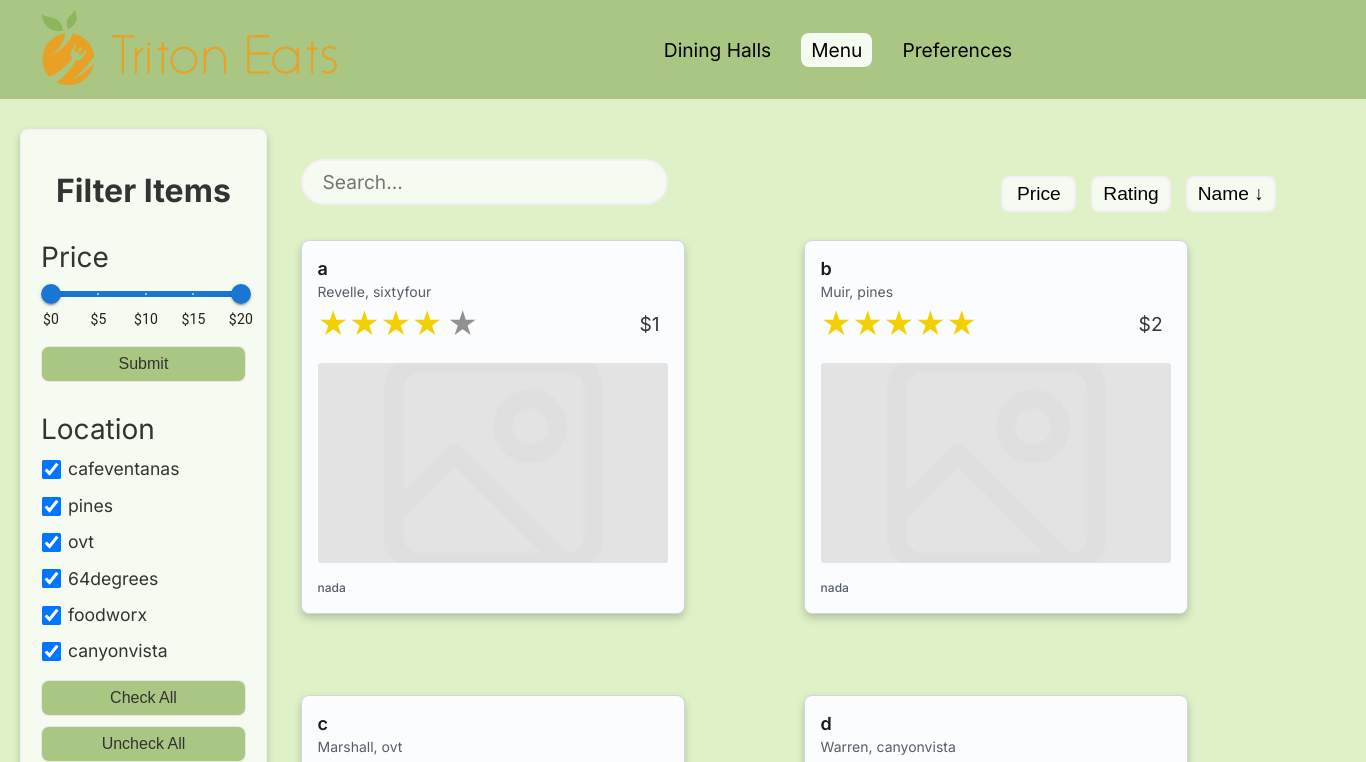
Scenario: Menu Filter Location › None
This screenshot has width=1366, height=762.
Check: the element with test id "dish-0" is shown, box 300,240 -> 684,614
Note: select the ones I want gone
Click the checkbox with test id "64degrees": (52, 579) 42,569 -> 61,588
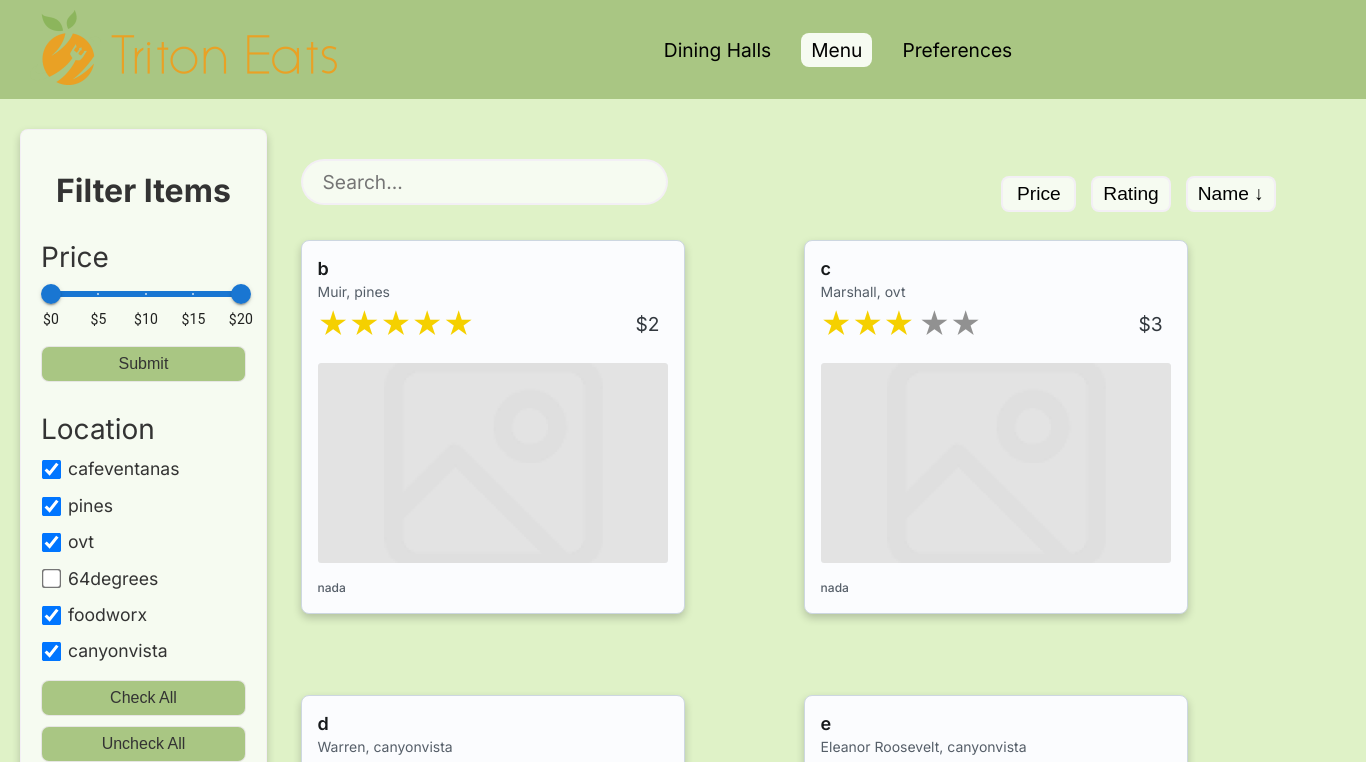
Click the checkbox with test id "cafeventanas": (52, 470) 42,460 -> 61,479
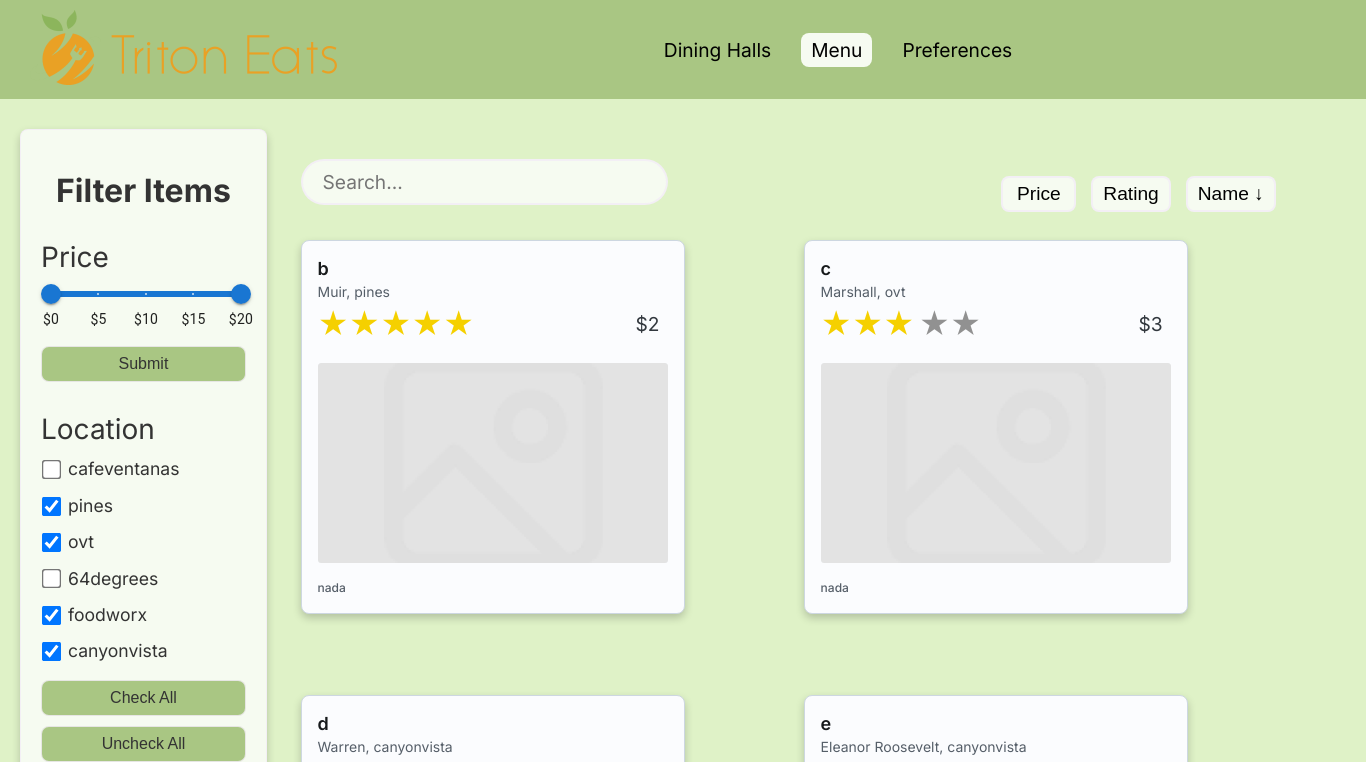
Click the checkbox with test id "canyonvista": (52, 652) 42,642 -> 61,661
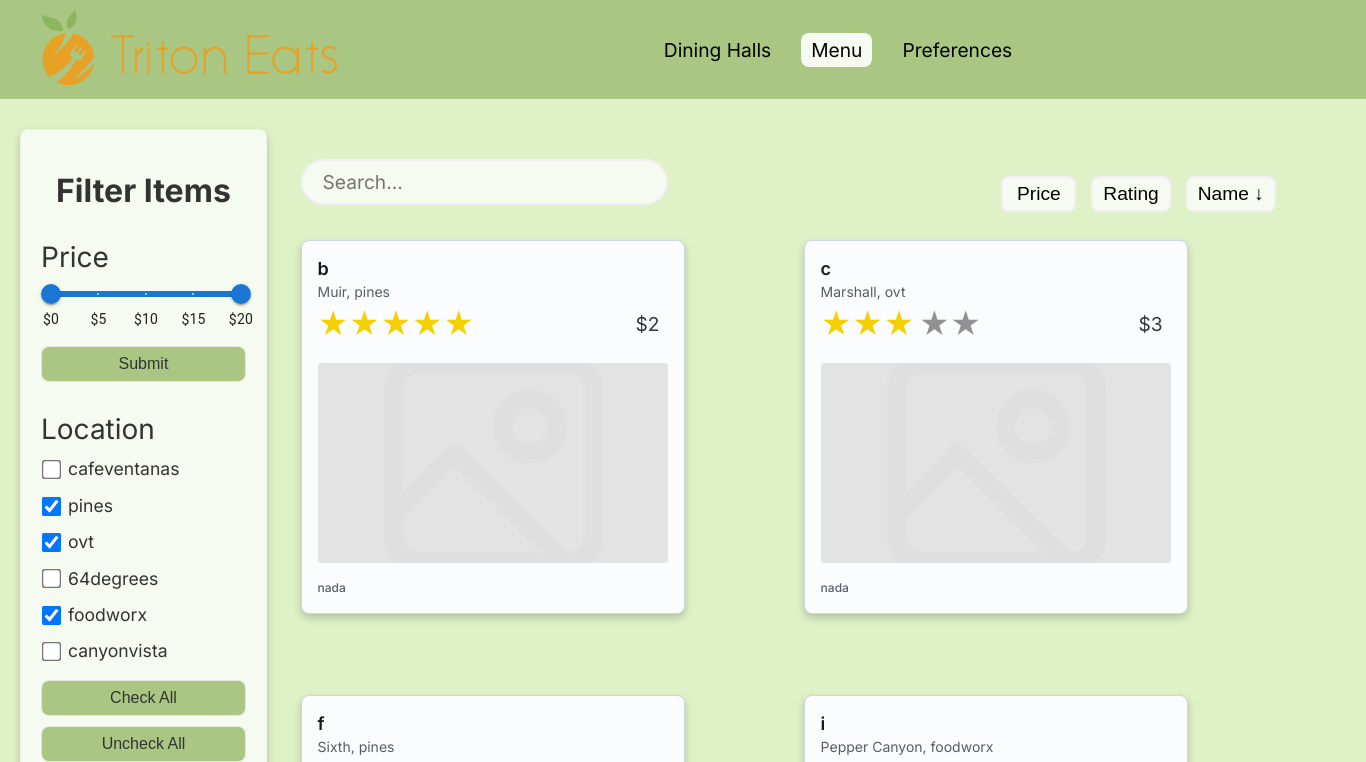
Click the checkbox with test id "foodworx": (52, 615) 42,605 -> 61,625
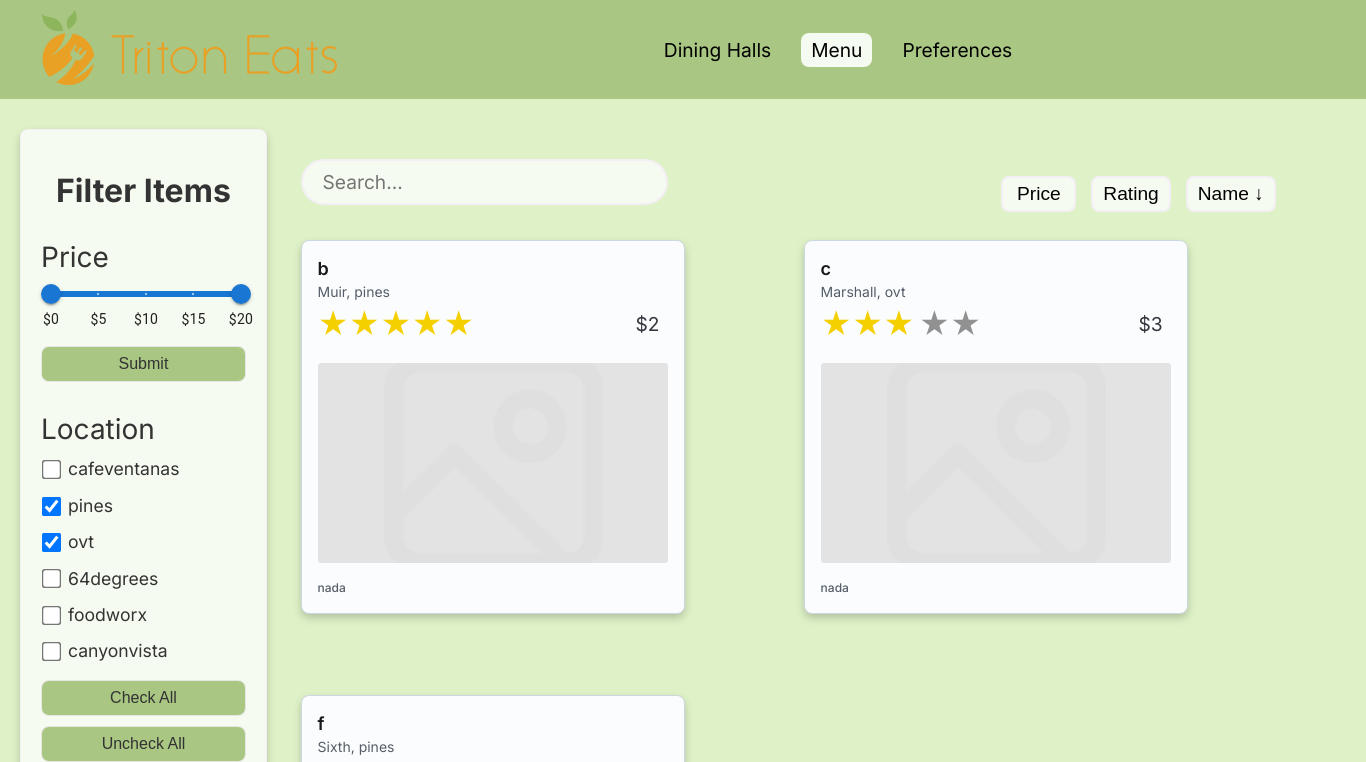
Click the checkbox with test id "pines": (52, 506) 42,496 -> 61,516
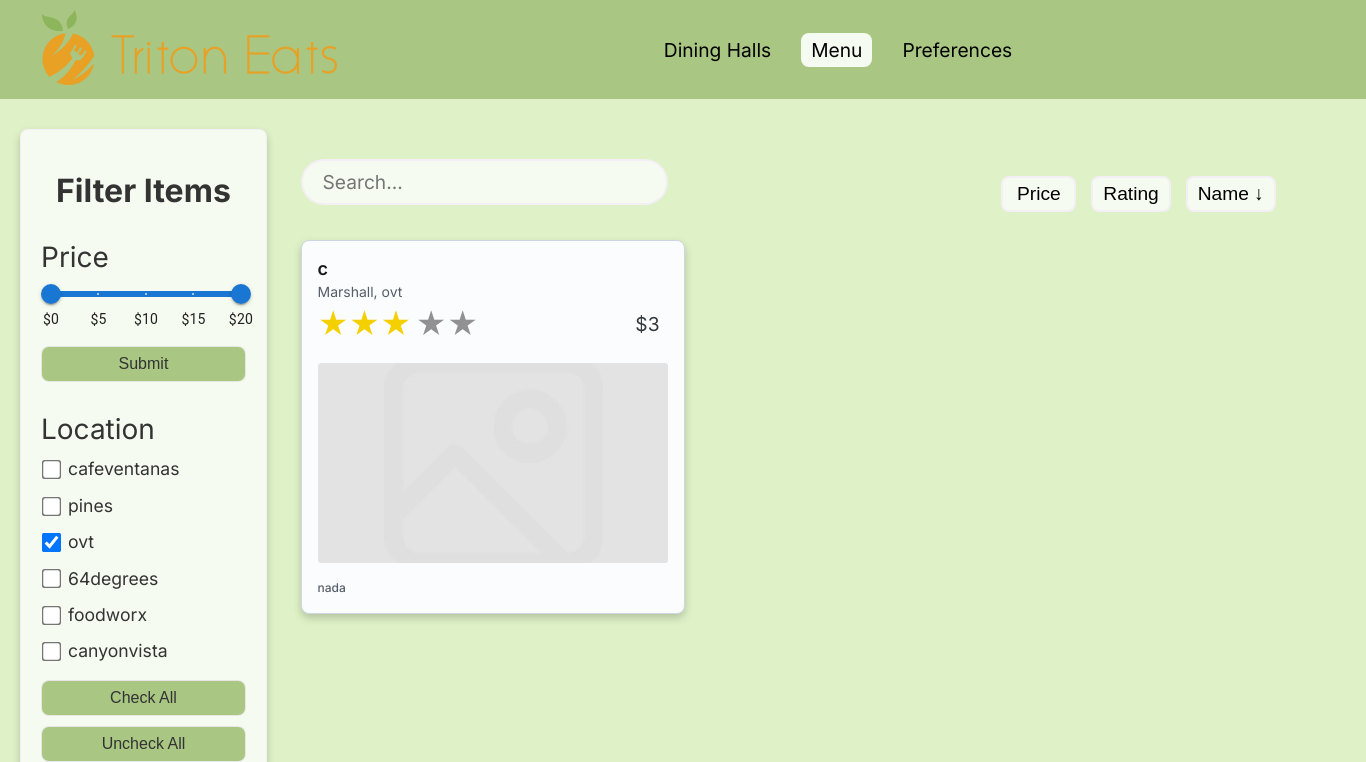
Click the checkbox with test id "ovt": (52, 542) 42,533 -> 61,552
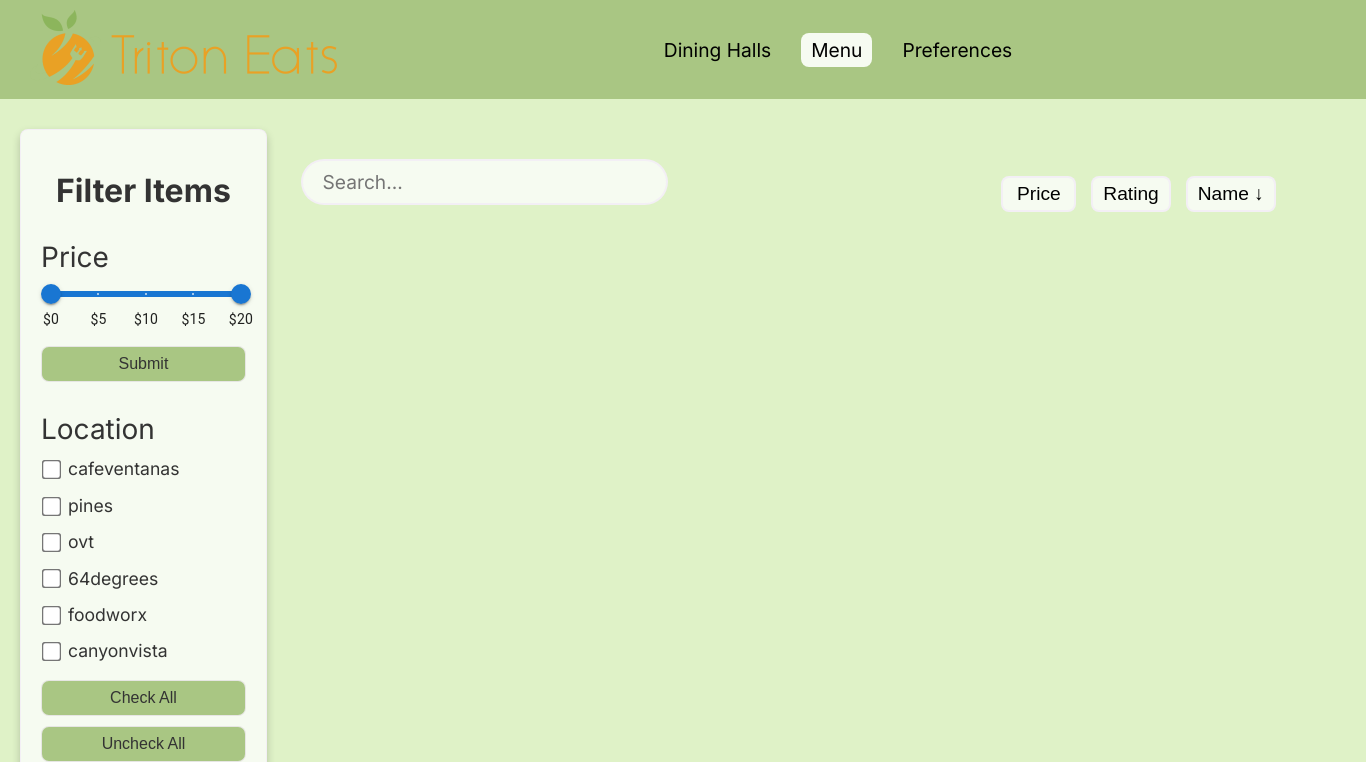
Check: the element with test id "dish-2" is gone
